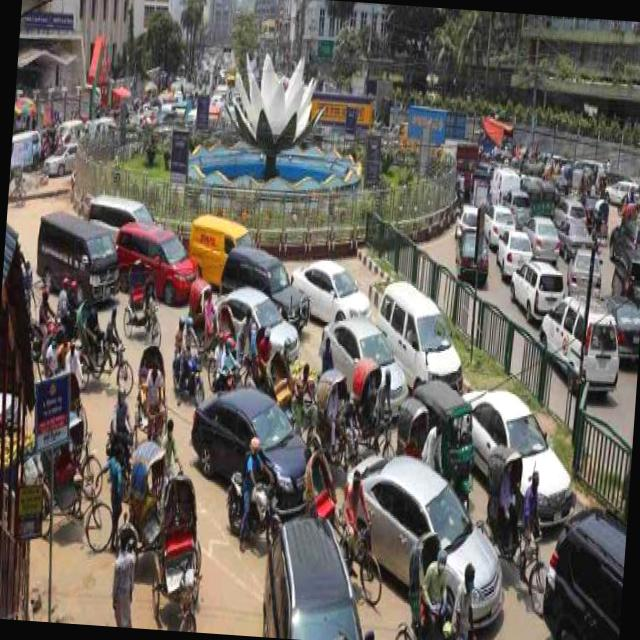car: (345, 444, 519, 624), (186, 382, 312, 512), (319, 306, 419, 412), (214, 233, 318, 328), (112, 207, 206, 311), (212, 280, 308, 362), (288, 254, 378, 329), (510, 259, 568, 315), (494, 222, 537, 284), (522, 203, 566, 260), (568, 237, 608, 293), (457, 193, 487, 229)
motorcycle: (295, 444, 393, 606), (405, 373, 486, 516), (394, 524, 487, 640), (148, 469, 211, 628), (224, 428, 295, 554), (481, 441, 552, 558), (71, 292, 141, 388), (124, 438, 168, 578), (349, 350, 403, 455), (308, 362, 364, 463), (134, 335, 174, 446), (123, 254, 169, 349), (169, 309, 210, 401), (186, 274, 222, 352), (28, 289, 65, 356), (213, 327, 248, 387), (536, 170, 560, 217), (520, 170, 546, 212)
truck: (370, 270, 476, 390), (536, 278, 628, 398), (32, 200, 128, 298), (185, 197, 263, 282)
